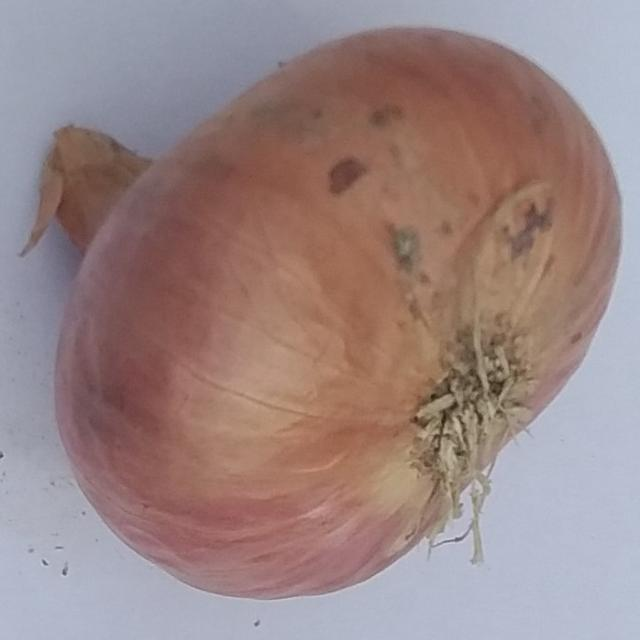onion: (15, 25, 627, 607)
